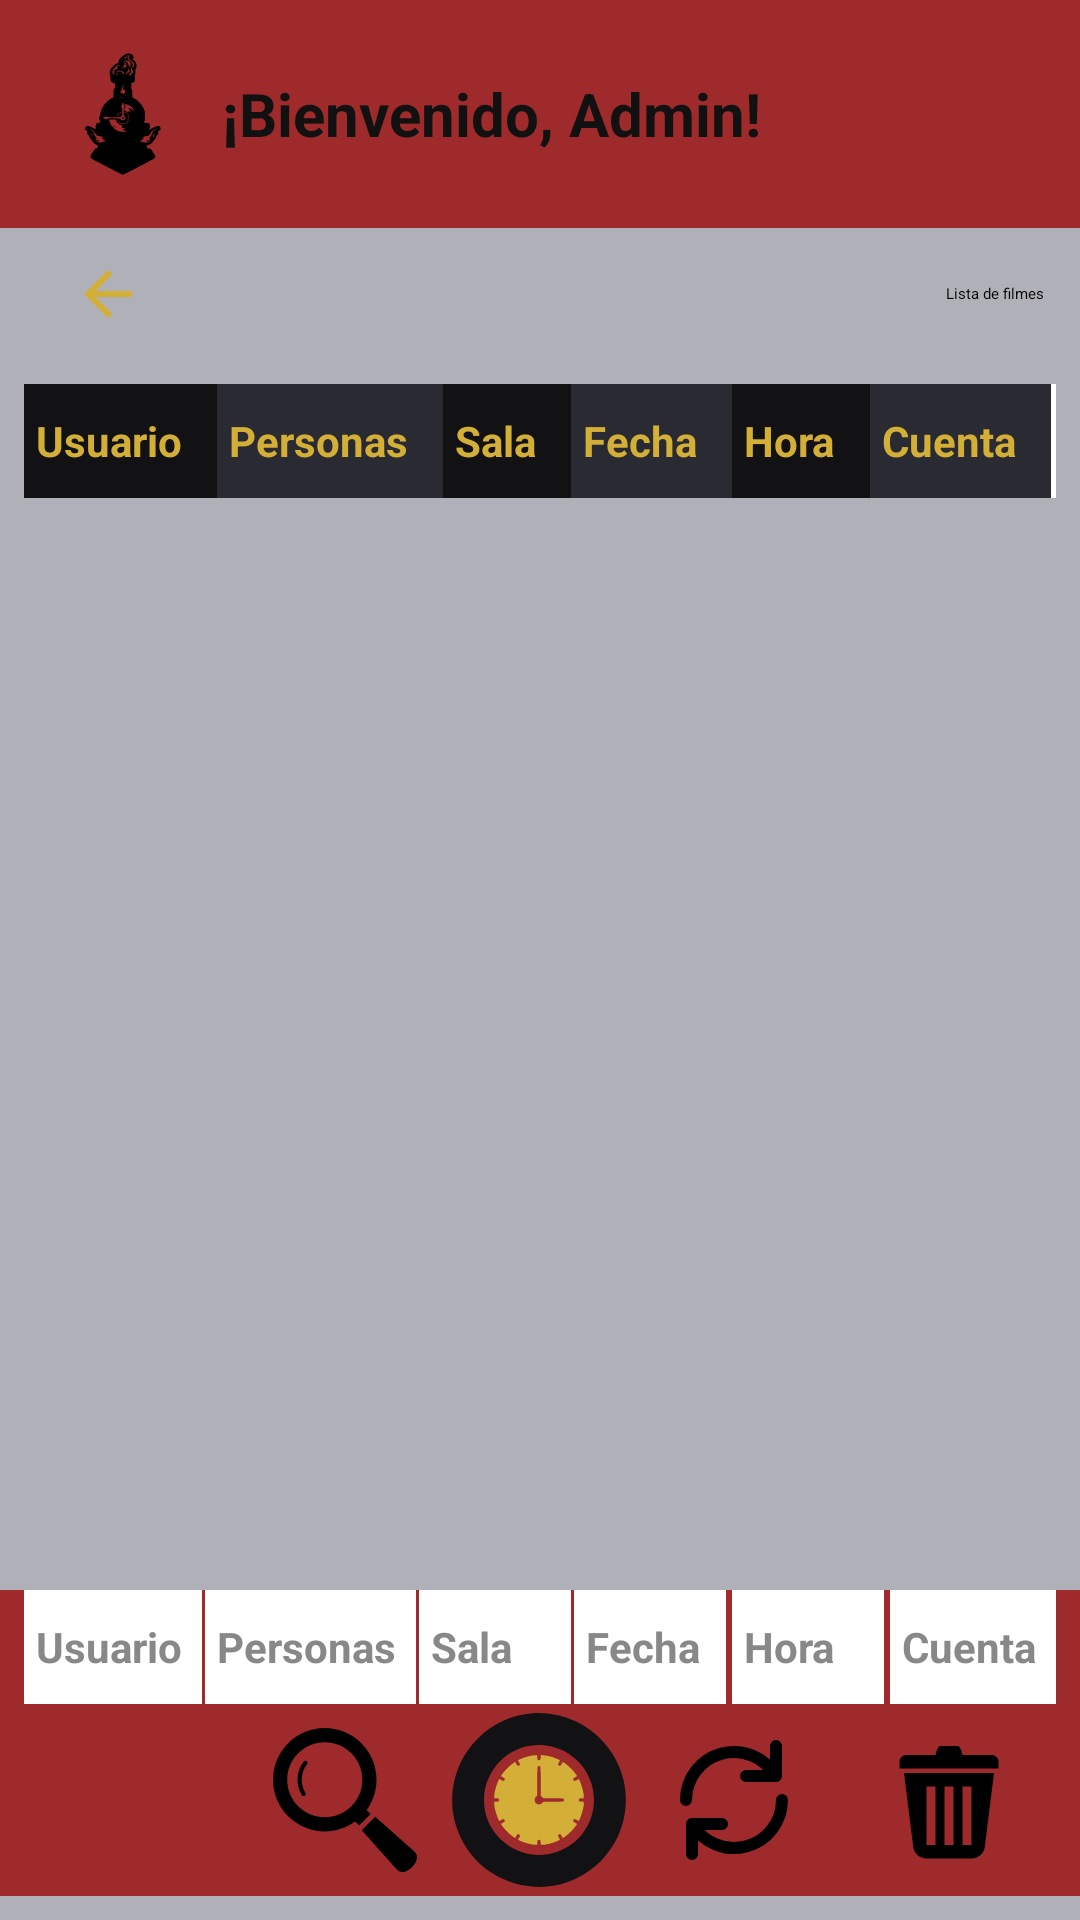

Screen size 1080px×1920px. Icon name, then its box in pixels as (x1,y1,x2,y2):
Actualizar: (680,1740,788,1860)
Buscar: (273,1728,417,1872)
Eliminar: (899,1746,999,1859)
